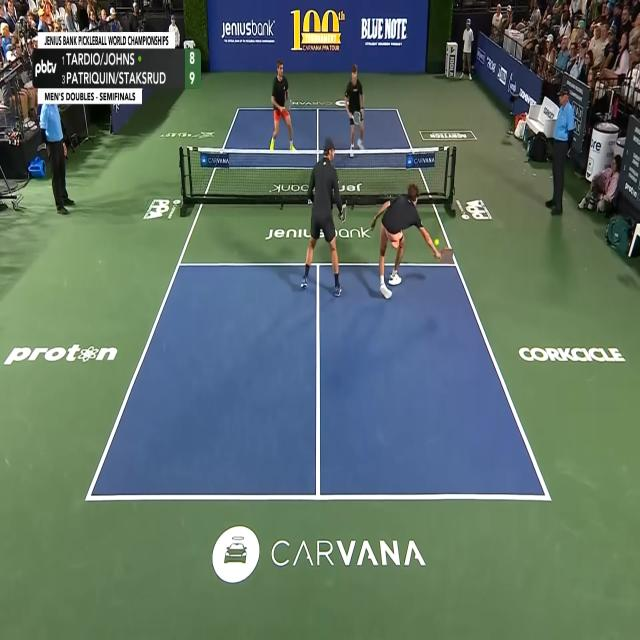ball: (434, 237, 439, 246)
